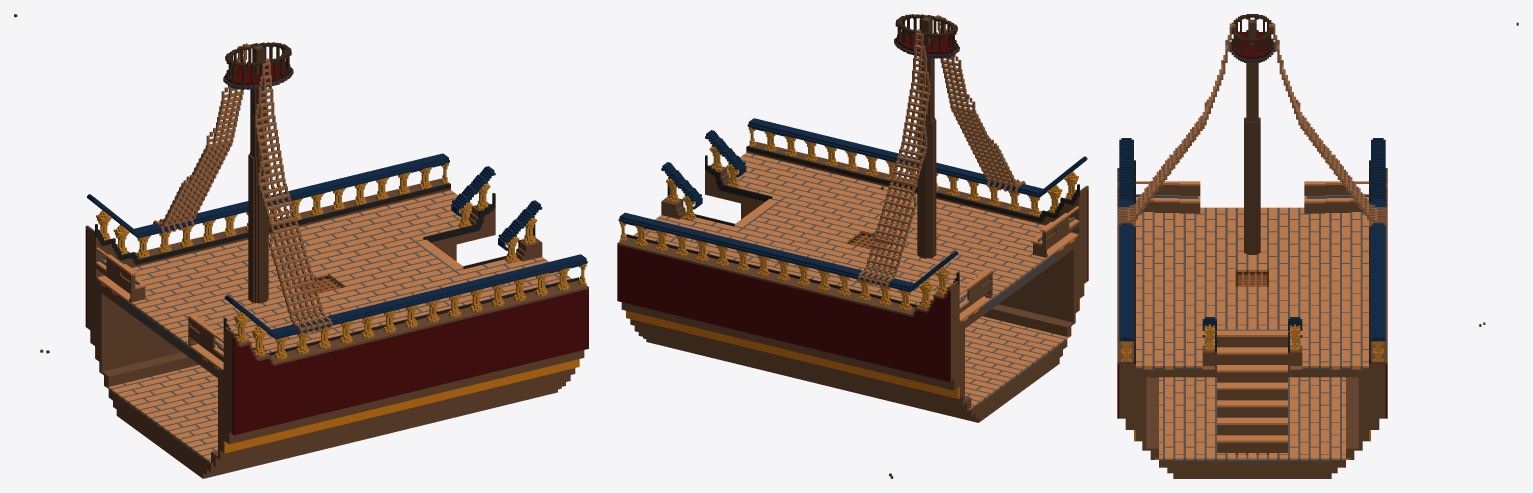
File: ship-6.obj
3 views of the same model, side by side, from view 1: azimuth 30°, elevation 25°; view 2: azimuth 150°, elevation 25°; view 3: azimuth 270°, elevation 25° (orthographic). The views are drawn at different scales.
Bounding box in the file's own units: 18 × 18.2 × 19.3.
Materials: 1 (1 with a texture image).
